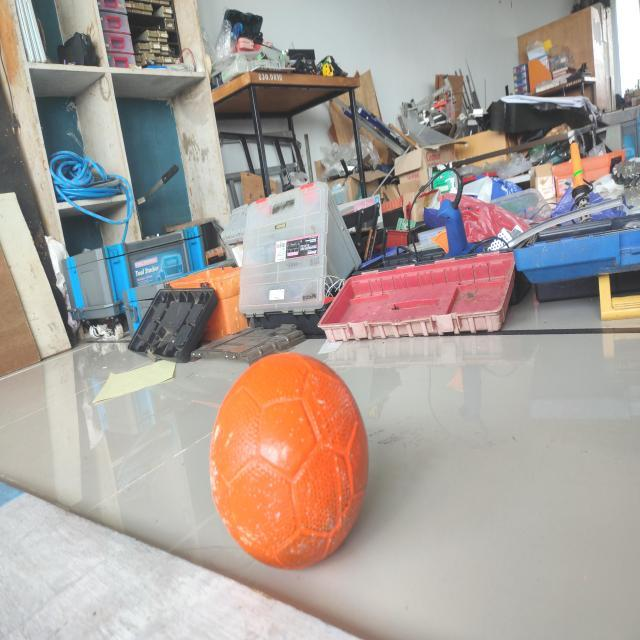bola: (208, 347, 372, 572)
